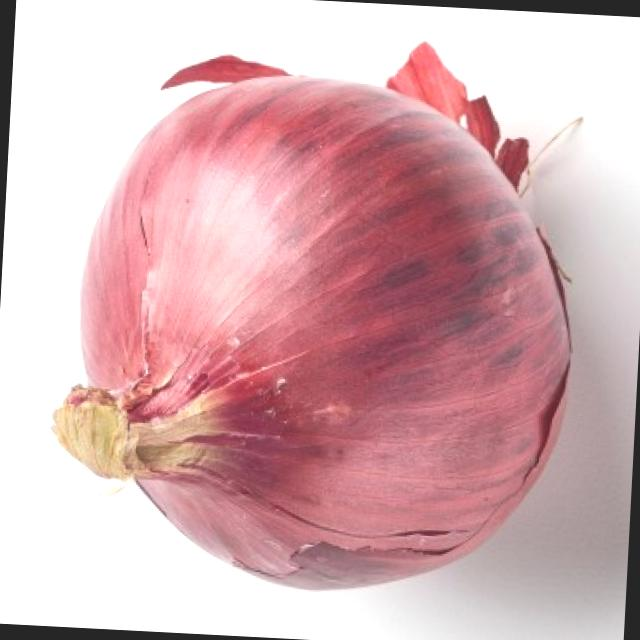onion: (55, 12, 612, 624)
